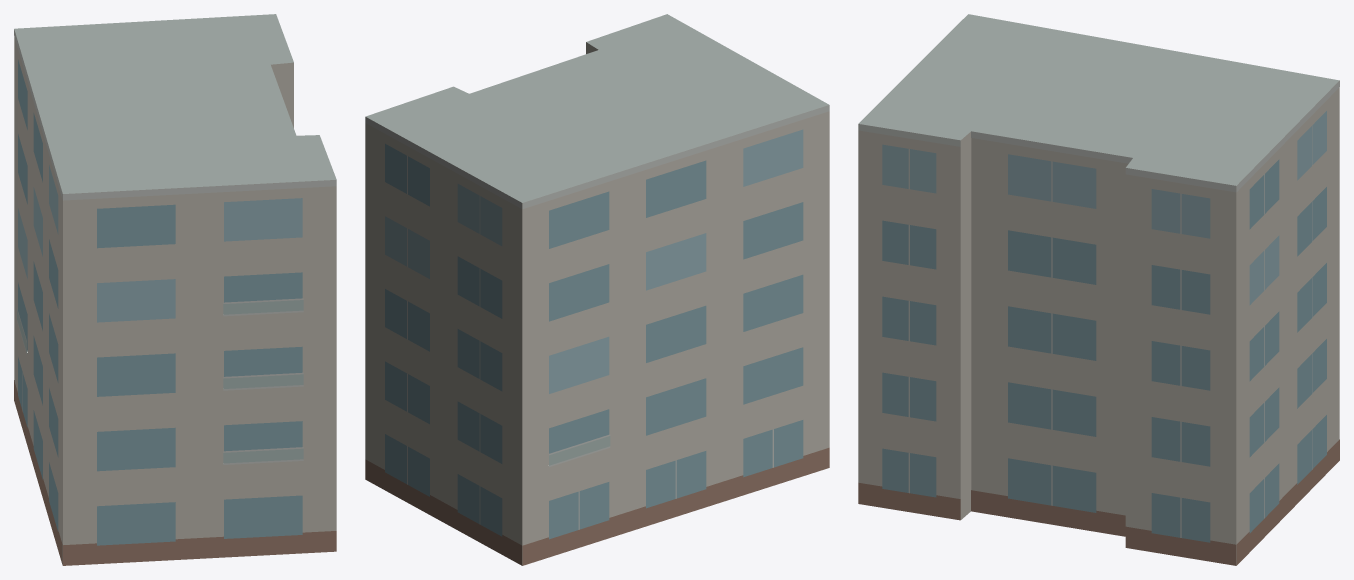
File: survey-upis-32707413.glb
The picture shows the model from 3 angles, left to right: view 1: azimuth 30°, elevation 25°; view 2: azimuth 150°, elevation 25°; view 3: azimuth 270°, elevation 25°; orthographic projection. The views are drawn at different scales.
Visible parts, largest first — view 1: survey-upis-32707413.tmp; view 2: survey-upis-32707413.tmp; view 3: survey-upis-32707413.tmp.
Boxes of the visible parts, x1=… form: survey-upis-32707413.tmp: x1=14, y1=14, x2=336, y2=565; survey-upis-32707413.tmp: x1=365, y1=14, x2=829, y2=565; survey-upis-32707413.tmp: x1=858, y1=14, x2=1339, y2=565.
Bounding box in the file's own units: 13.68 × 14.1 × 16.2.
